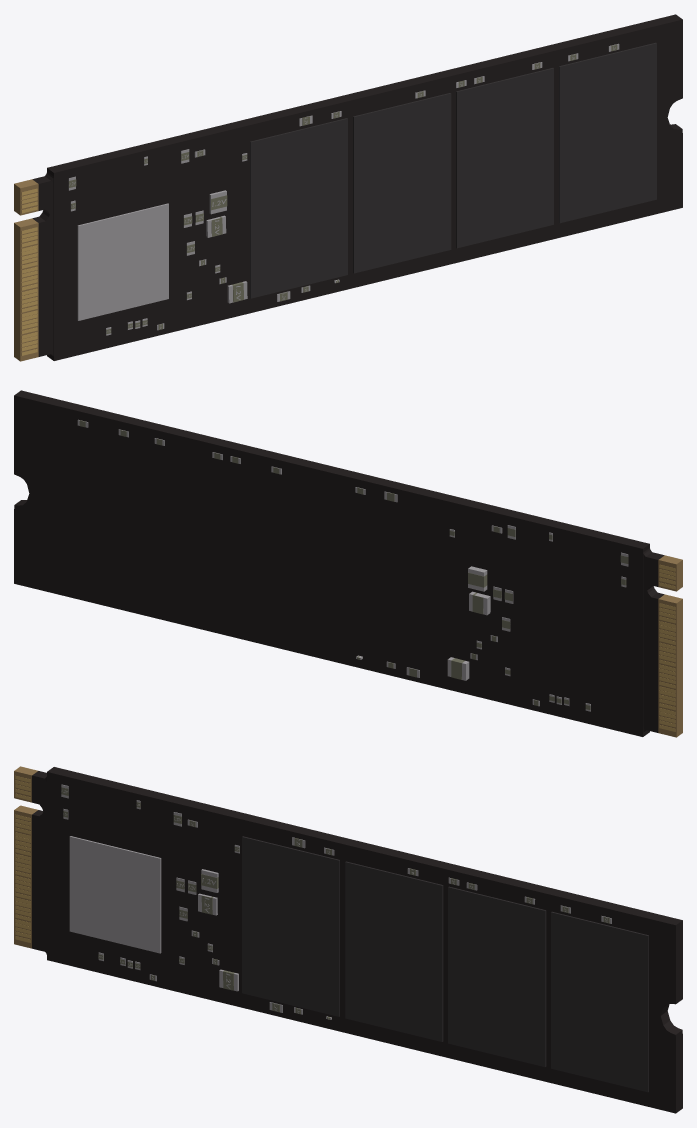
File: ssd.glb
The picture shows the model from 3 angles, top to bottom: view 1: azimuth 30°, elevation 25°; view 2: azimuth 150°, elevation 25°; view 3: azimuth 330°, elevation 25°; orthographic projection.
Visible parts, largest first — view 1: part_ssd; view 2: part_ssd; view 3: part_ssd.
Boxes of the visible parts, <box> form: part_ssd: <box>14,14,682,361</box>; part_ssd: <box>14,390,682,737</box>; part_ssd: <box>14,766,682,1113</box>.
Size of the model in its own units: 0.8 by 0.2173 by 0.0252.
Materials: 1 (1 with a texture image).
